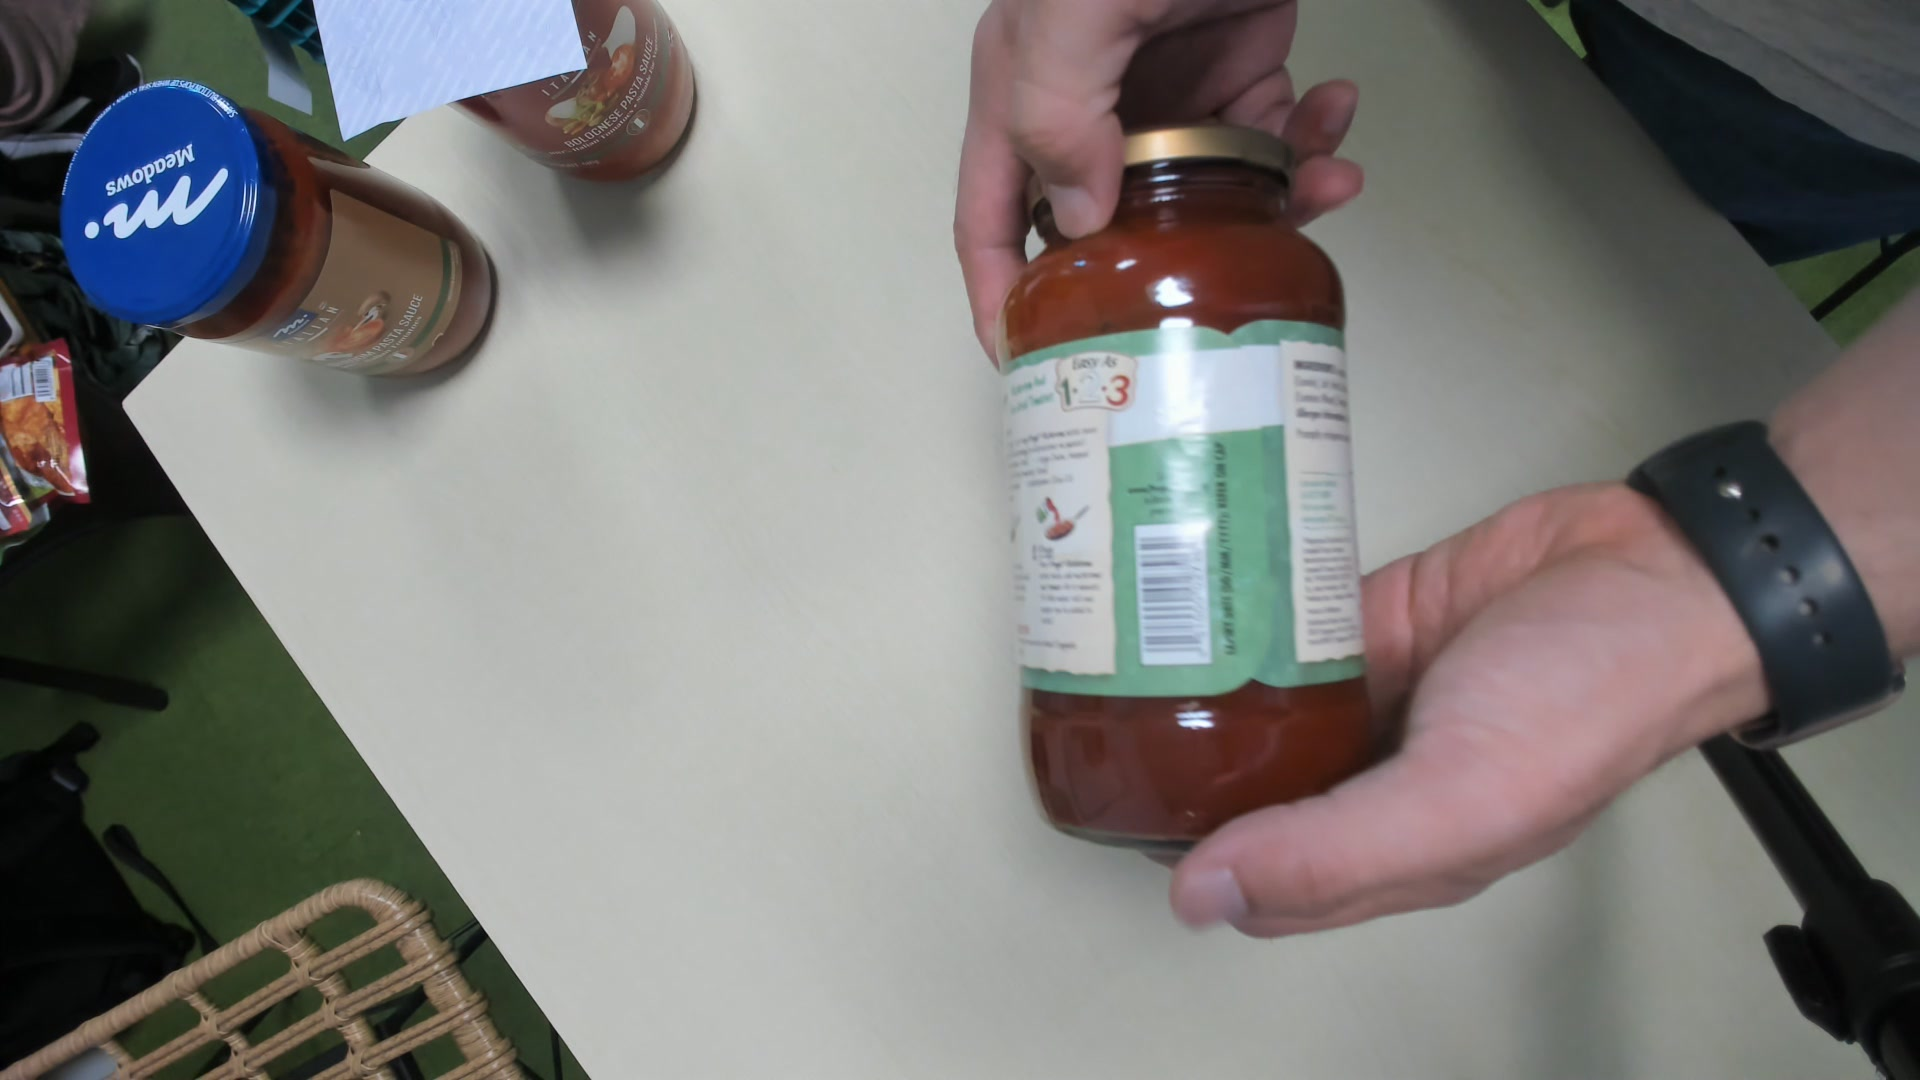PastaSauce_600-699g_Halal_NonHealthy: (998, 121, 1375, 857)
